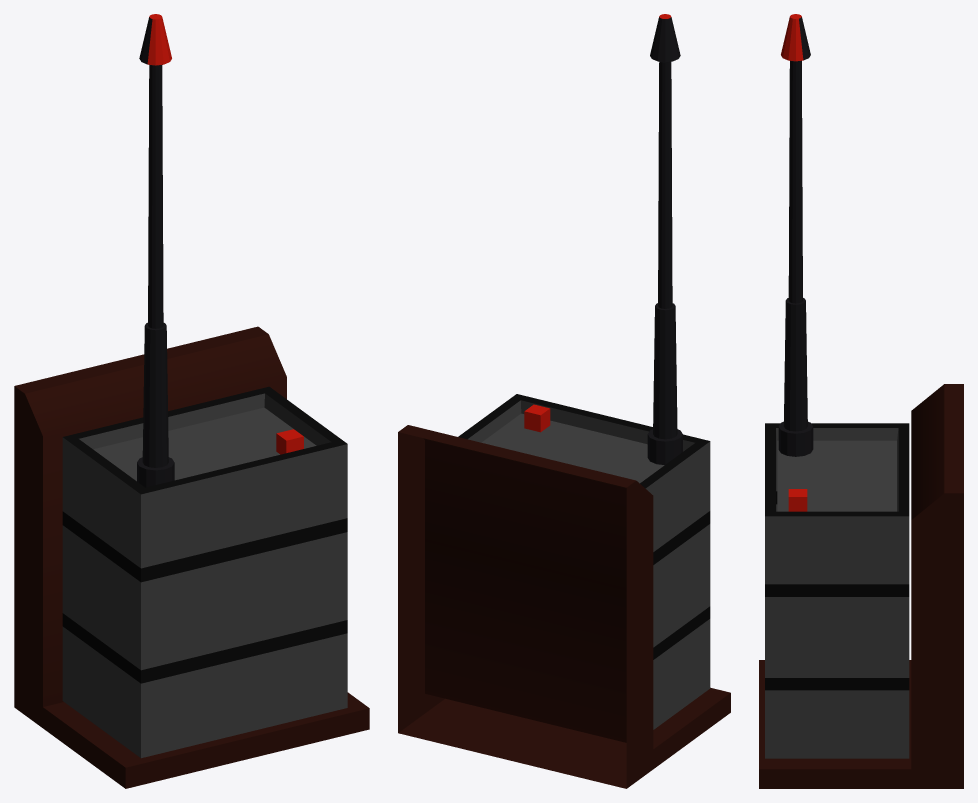
File: radio_backpack.obj
The picture shows the model from 3 angles, left to right: view 1: azimuth 30°, elevation 25°; view 2: azimuth 150°, elevation 25°; view 3: azimuth 270°, elevation 25°; orthographic projection. The views are drawn at different scales.
Visible parts, largest first — view 1: Cube_Cube.001; view 2: Cube_Cube.001; view 3: Cube_Cube.001.
Boxes of the visible parts, x1,y1,x2,y2 form: Cube_Cube.001: (14, 14, 369, 788); Cube_Cube.001: (398, 14, 730, 788); Cube_Cube.001: (759, 14, 963, 788).
Size of the model in its own units: 0.3771 by 1.1 by 0.2983.
